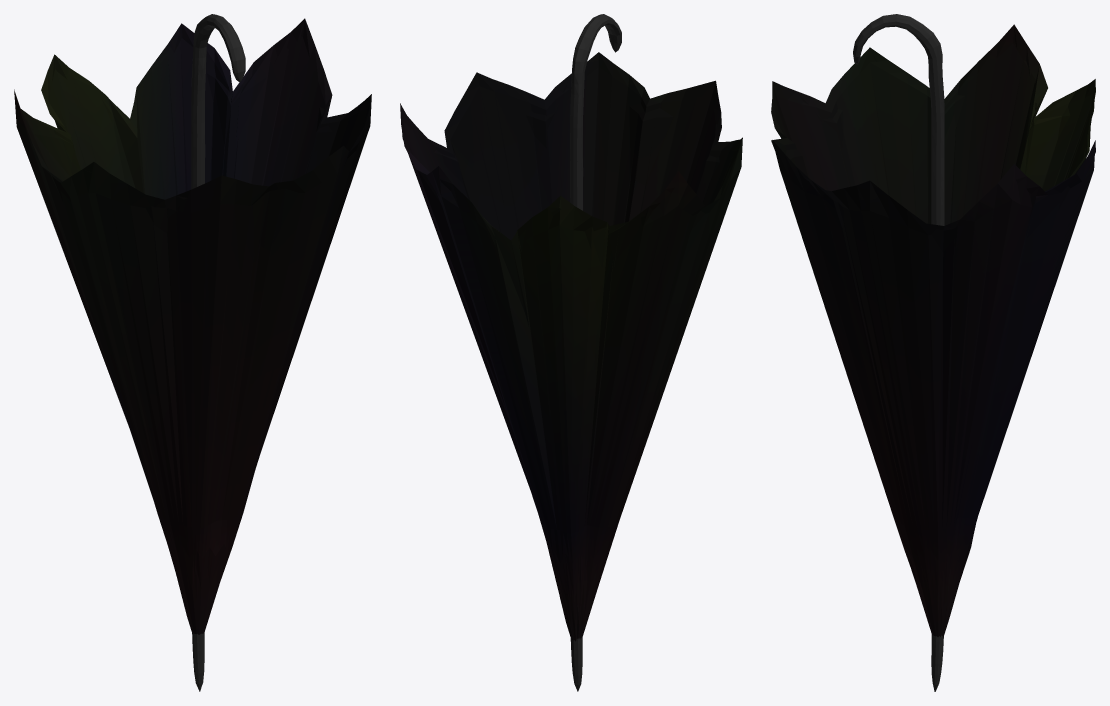
The model's file is ombrello.obj.
3 renders of one model, left to right at view 1: azimuth 30°, elevation 25°; view 2: azimuth 150°, elevation 25°; view 3: azimuth 270°, elevation 25°, orthographic. The views are drawn at different scales.
Parts seen in each view (by area): view 1: Group31905, Group31920; view 2: Group31905, Group31920; view 3: Group31905, Group31920.
Part boxes in pixels (left/top/right/bottom): Group31905: left=14, top=18, right=371, bottom=634; Group31920: left=191, top=14, right=245, bottom=691; Group31905: left=400, top=52, right=742, bottom=641; Group31920: left=570, top=14, right=621, bottom=691; Group31905: left=771, top=24, right=1095, bottom=636; Group31920: left=853, top=14, right=944, bottom=691.
Size of the model in its own units: 1.86 by 4.19 by 1.82.
1 material, 1 textured.
